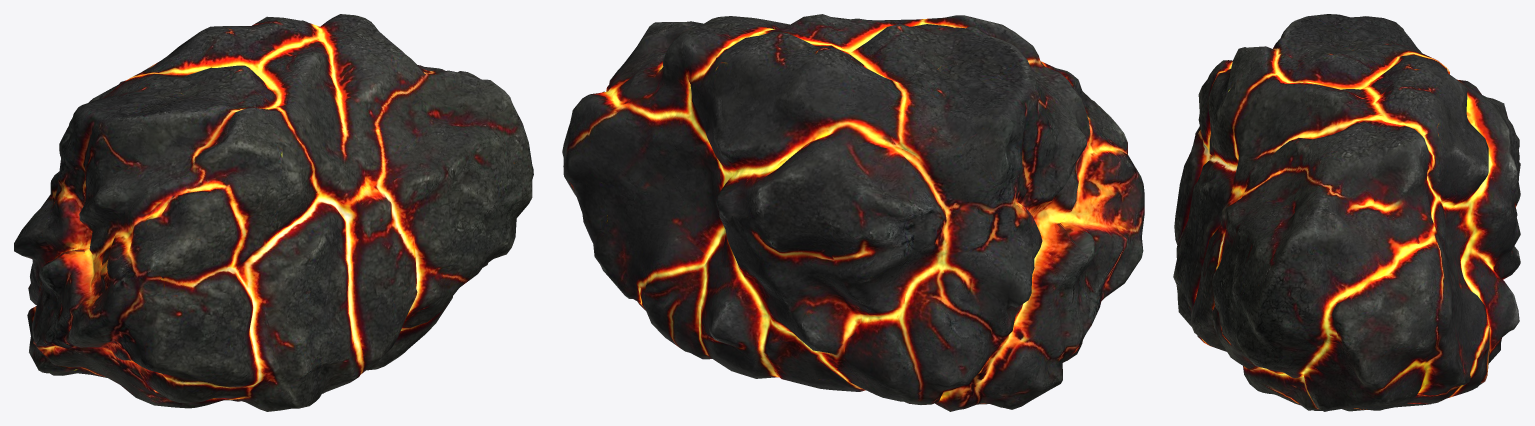
Rendered from lava_rock_c.glb.
The picture shows the model from 3 angles, left to right: view 1: azimuth 30°, elevation 25°; view 2: azimuth 150°, elevation 25°; view 3: azimuth 270°, elevation 25°; orthographic projection. The views are drawn at different scales.
Visible parts, largest first — view 1: lava_rock_c; view 2: lava_rock_c; view 3: lava_rock_c.
Part boxes in pixels (<box>): lava_rock_c: <box>14,14,533,411</box>; lava_rock_c: <box>562,14,1144,411</box>; lava_rock_c: <box>1173,14,1520,411</box>.
Size of the model in its own units: 1.91 by 1.19 by 1.23.
Materials: 1 (1 with a texture image).
